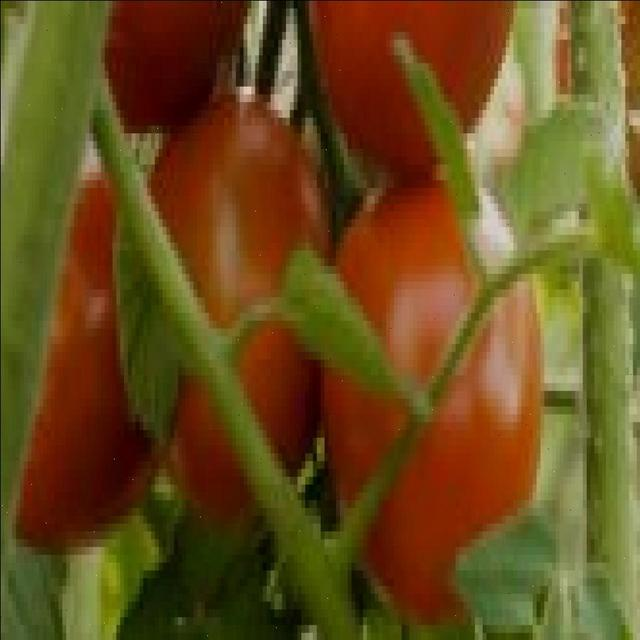Healthy Fruit: (53, 39, 284, 292)
